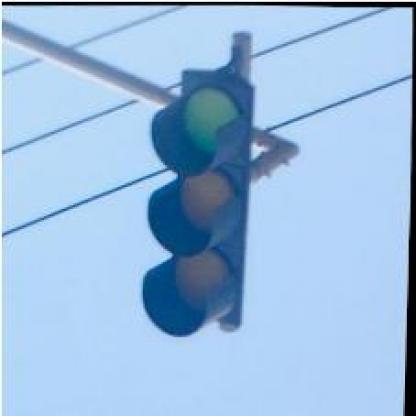green: (138, 68, 258, 335)
